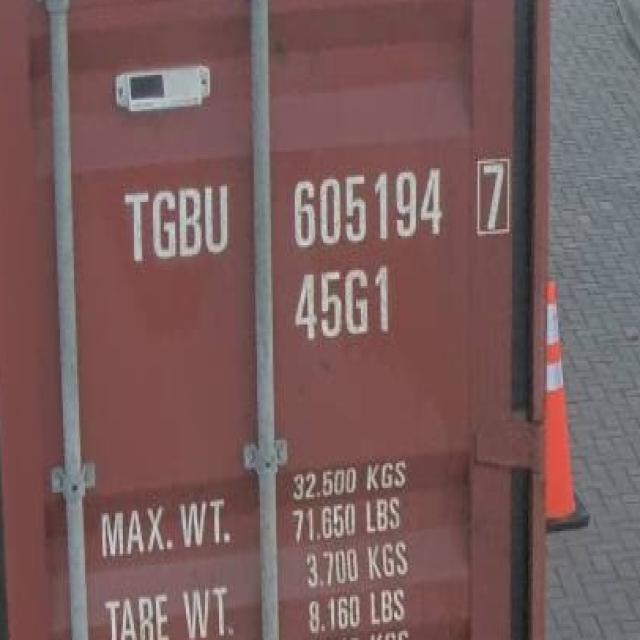dv: (470, 148, 514, 244)
owner: (114, 176, 237, 270)
serial: (284, 158, 452, 257)
size: (287, 262, 402, 351)
